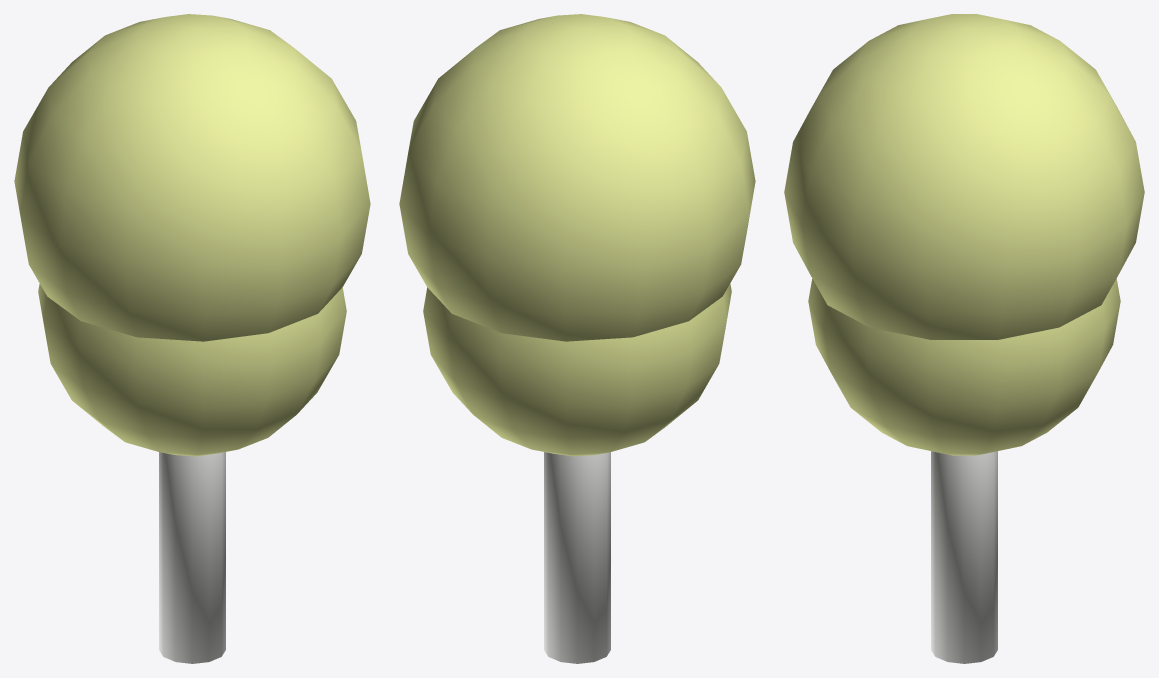
Rendered from prop_birch_tree.glb.
The picture shows the model from 3 angles, left to right: view 1: azimuth 30°, elevation 25°; view 2: azimuth 150°, elevation 25°; view 3: azimuth 270°, elevation 25°; orthographic projection.
Visible parts, largest first — view 1: prop_birch_tree; view 2: prop_birch_tree; view 3: prop_birch_tree.
Part boxes in pixels (<box>): prop_birch_tree: <box>14,14,370,663</box>; prop_birch_tree: <box>399,14,755,663</box>; prop_birch_tree: <box>784,14,1144,663</box>.
Size of the model in its own units: 1.46 by 2.85 by 1.5.
